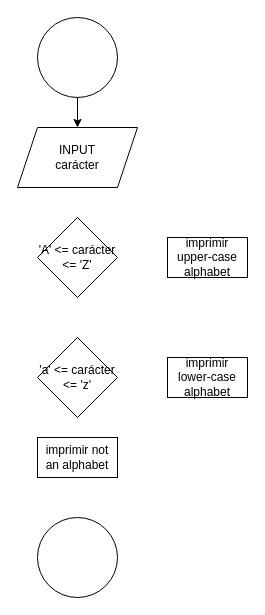
Image size: 265x615. Some labels were removed from this diagram. Here are the shapes that lost their labels. From the top down, the box of each, then its label:
(36, 16, 118, 98): INICIO
(36, 516, 118, 598): FIN
